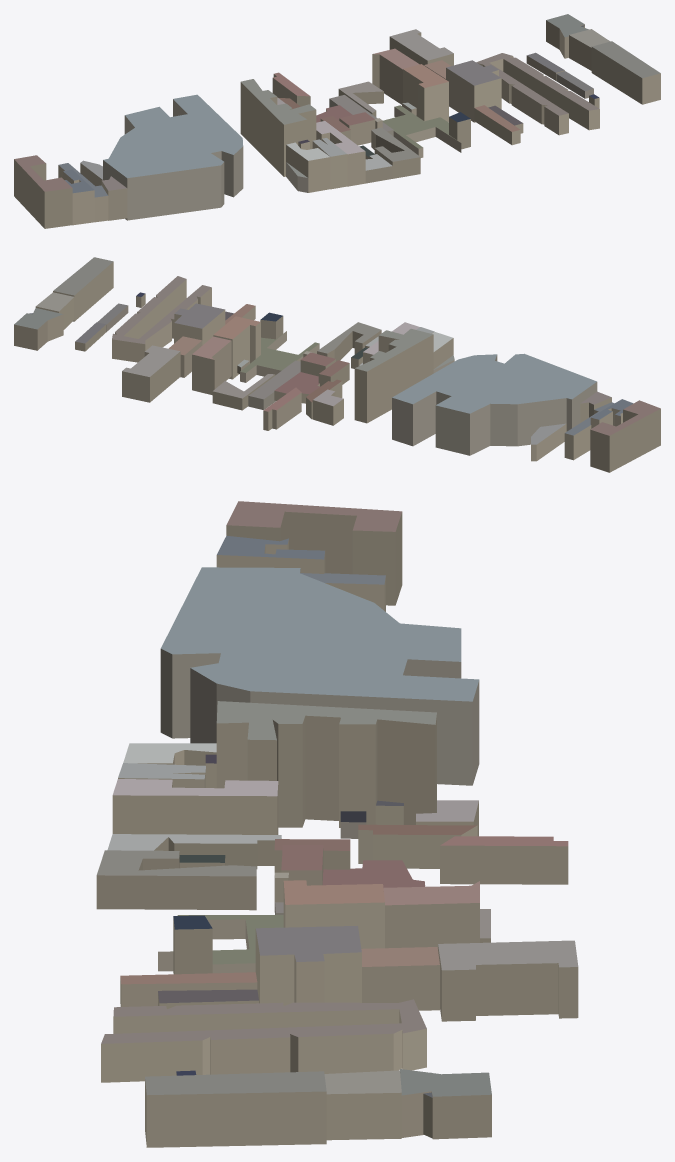
The picture shows the model from 3 angles, top to bottom: view 1: azimuth 30°, elevation 25°; view 2: azimuth 150°, elevation 25°; view 3: azimuth 270°, elevation 25°; orthographic projection. The views are drawn at different scales.
Parts seen in each view (by area): view 1: tuile; view 2: tuile; view 3: tuile.
Boxes of the visible parts, box(x1,y1,x2,y2) form: tuile: box(14, 14, 660, 228); tuile: box(14, 257, 660, 472); tuile: box(96, 501, 578, 1147).
Bounding box in the file's own units: 282 × 25.96 × 99.91.
